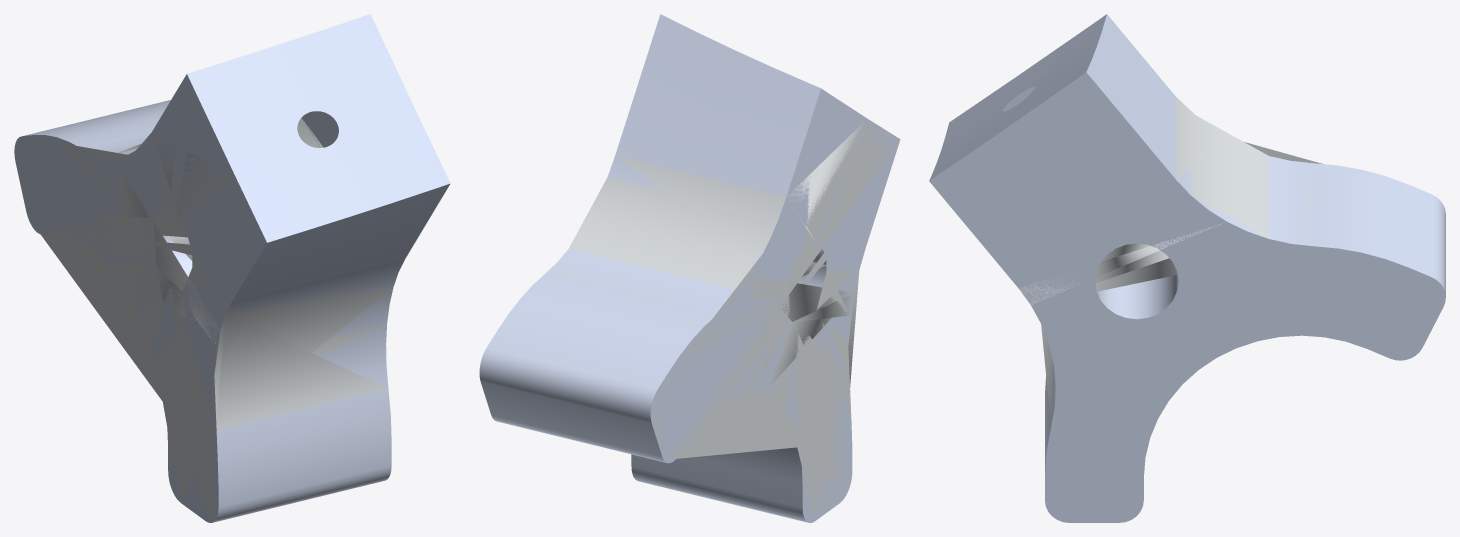
File: MirrorUA_26EV_BottomSeatMounting__UA_26EV_BottomSeatMounting_Fork_1.dae
3 views of the same model, side by side, from view 1: azimuth 30°, elevation 25°; view 2: azimuth 150°, elevation 25°; view 3: azimuth 270°, elevation 25° (orthographic).
Parts seen in each view (by area): view 1: node0, node1; view 2: node0, node1; view 3: node0, node1.
Boxes of the visible parts, box(x1,y1,x2,y2) form: node0: box(14, 14, 450, 522); node1: box(16, 118, 392, 522); node0: box(479, 14, 900, 522); node1: box(550, 119, 899, 522); node0: box(929, 14, 1445, 522); node1: box(1003, 86, 1323, 425).
Bounding box in the file's own units: 0.0159 × 0.0402 × 0.0418.
